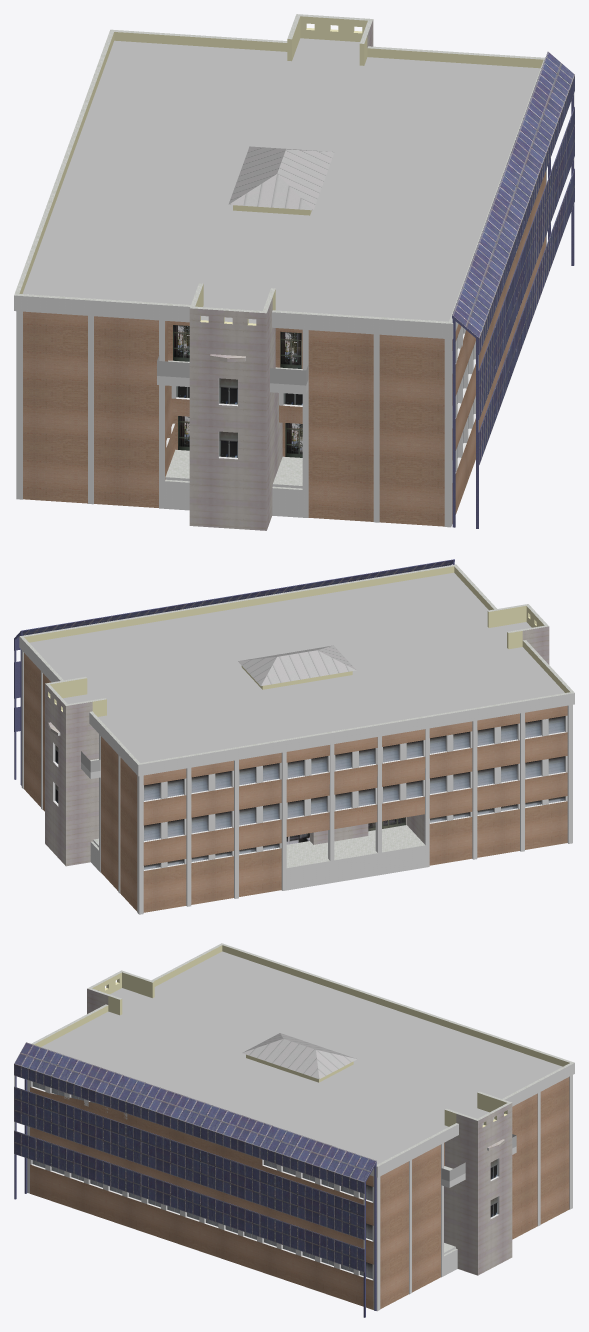
3 views of the same model, one above another, from view 1: azimuth 30°, elevation 25°; view 2: azimuth 150°, elevation 25°; view 3: azimuth 270°, elevation 25° (orthographic). The views are drawn at different scales.
Visible parts, largest first — view 1: Model; view 2: Model; view 3: Model.
Boxes of the visible parts, box(x1,y1,x2,y2) form: Model: box(14, 14, 574, 530); Model: box(14, 559, 574, 914); Model: box(14, 943, 574, 1317).
Size of what is drawn, in the model's own units: 5492 by 1743 by 5675.
